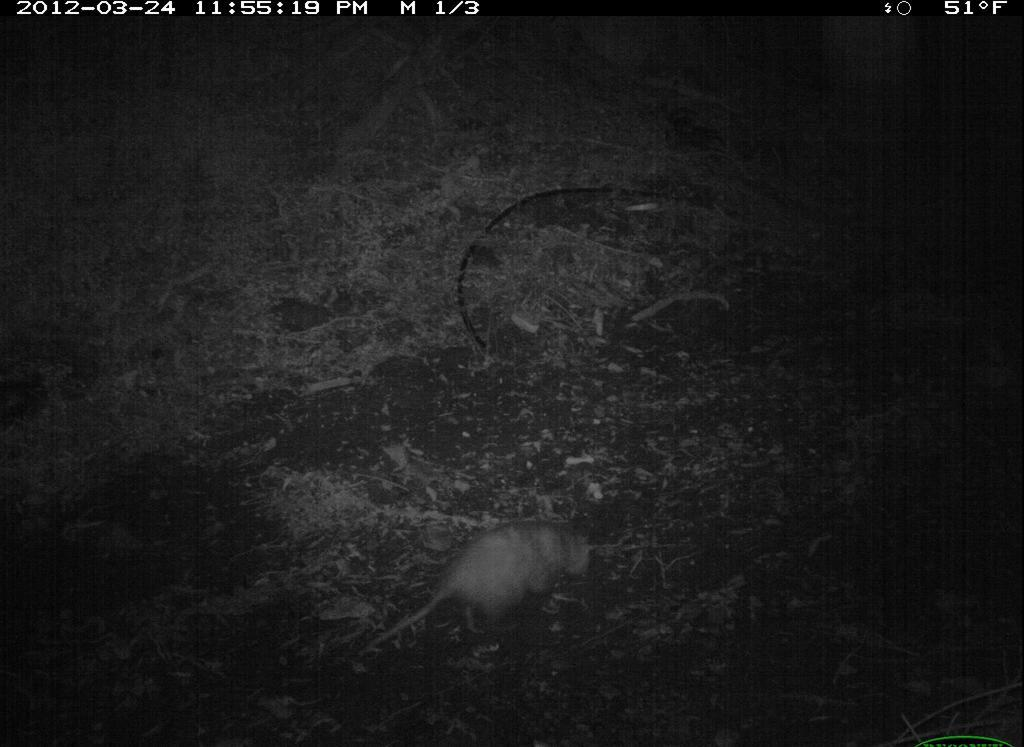opossum: (361, 513, 607, 673)
